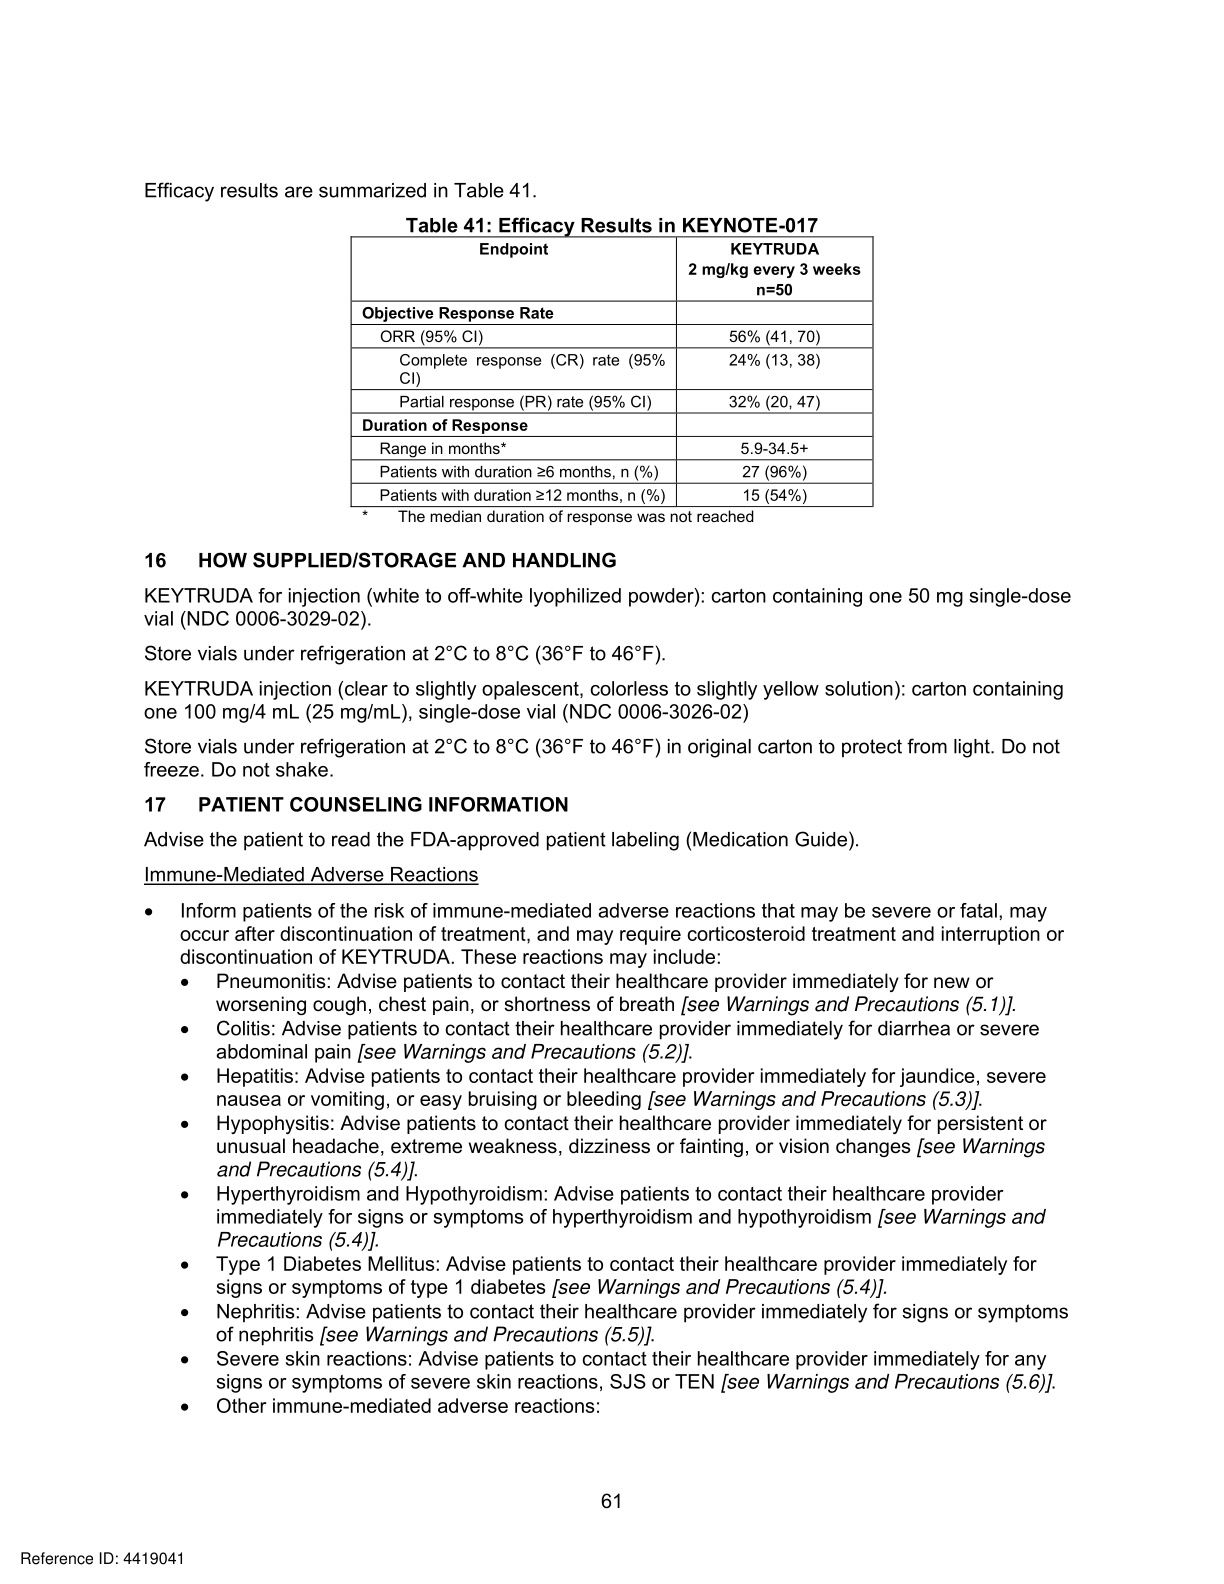full_lined: (348, 235, 876, 509)
